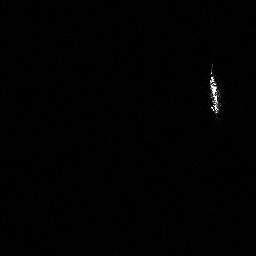ship: (204, 62, 225, 116)
